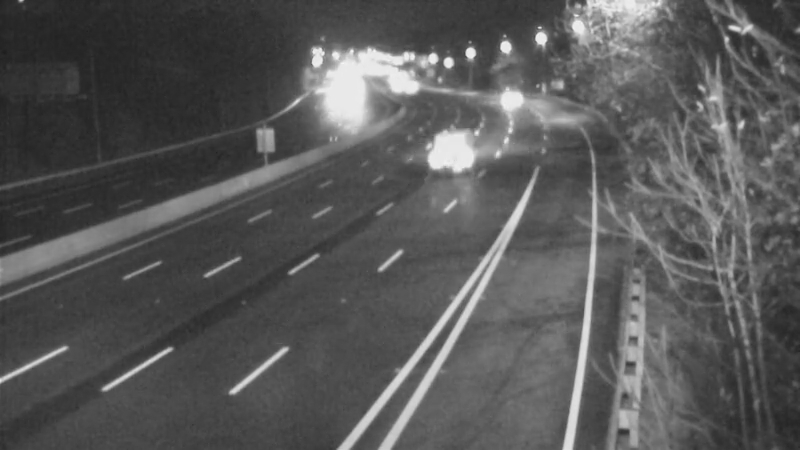vehicle: (474, 72, 524, 122), (424, 123, 474, 173)
